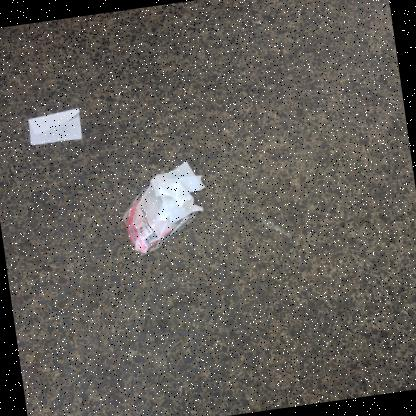Plastic film: (122, 182, 198, 256)
Tissues: (149, 160, 205, 211), (28, 107, 82, 145)
